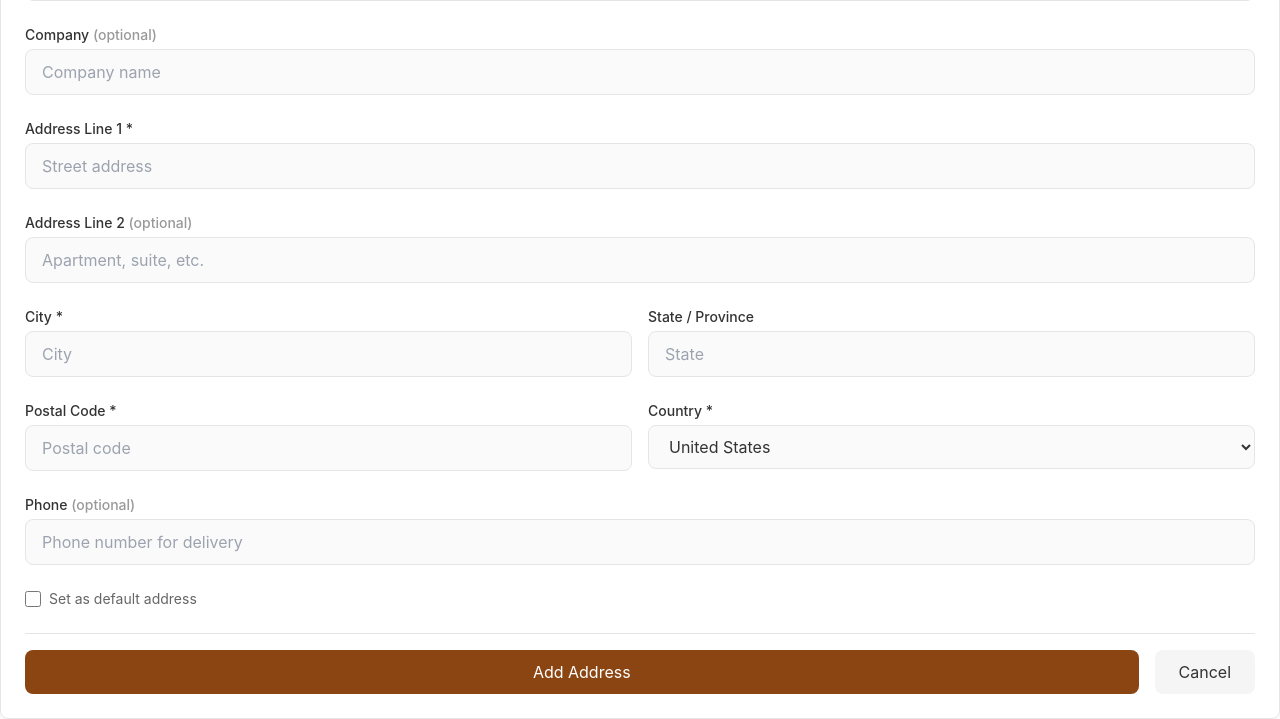
Scenario: AddressForm › form validation › shows error for empty name field
This screenshot has width=1280, height=719.
(page scrolled)
Click the button "Add Address" at (582, 672), box [25,650,1138,694]
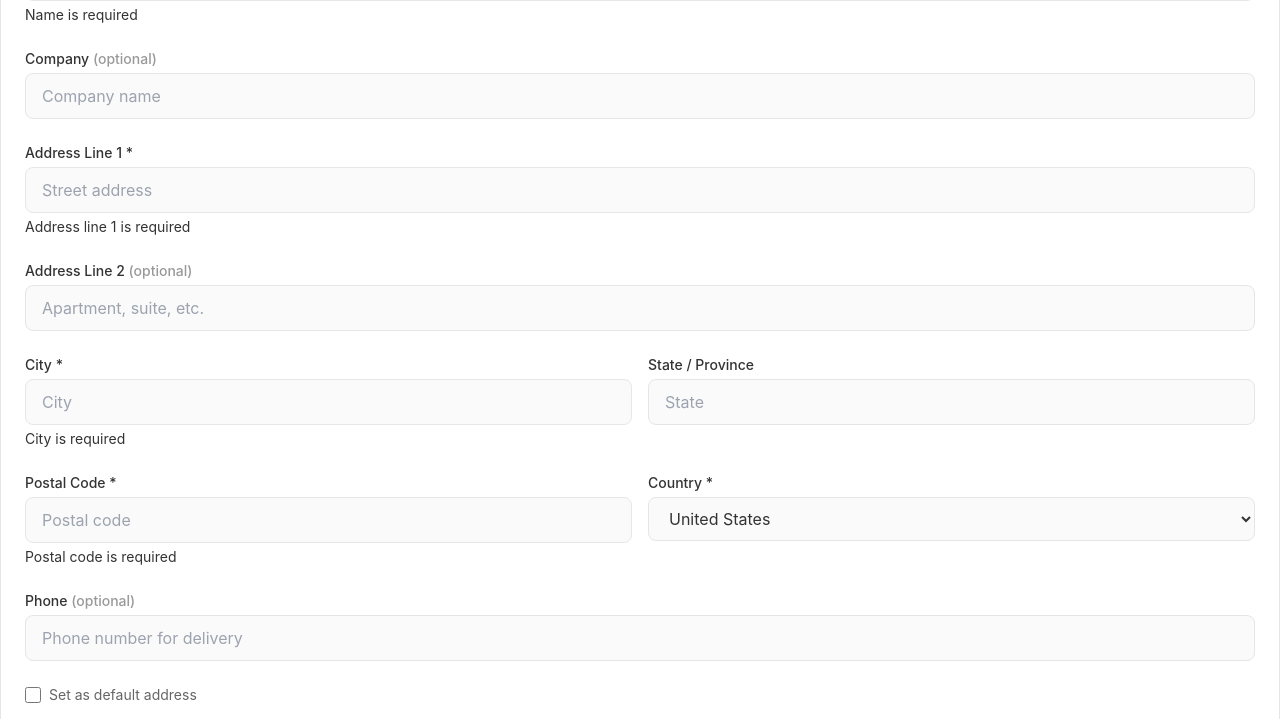
Expected: the text "Name is required" is shown, [25,6,138,23]
